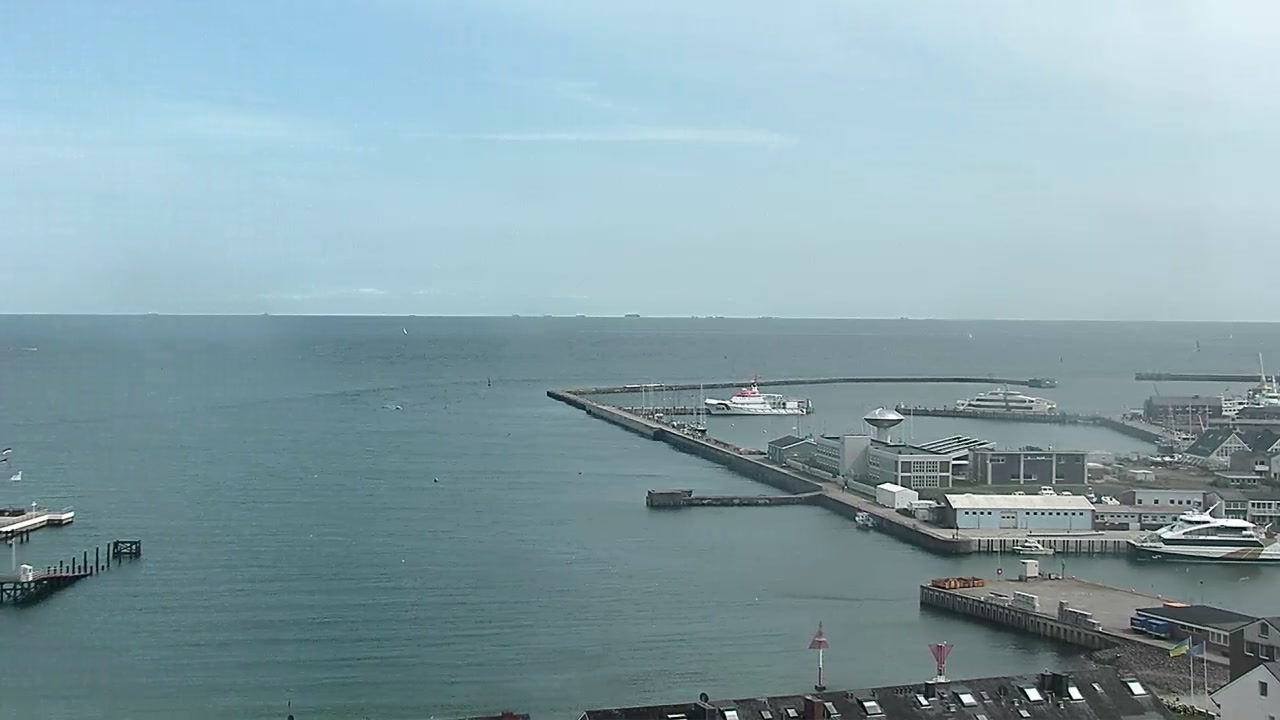sea: (1125, 499, 1280, 563), (704, 371, 806, 415), (953, 382, 1056, 413), (689, 382, 707, 433), (1010, 538, 1055, 554), (854, 510, 877, 529), (899, 315, 911, 320), (394, 404, 402, 410), (402, 327, 408, 335)
